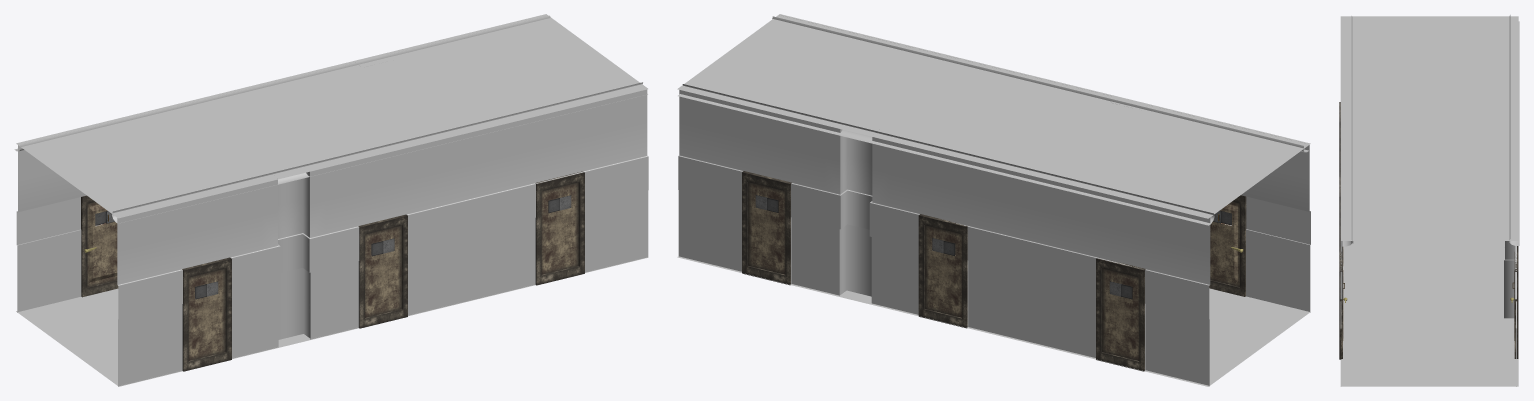
File: Mental_Hospital_Export2.fbx
The picture shows the model from 3 angles, left to right: view 1: azimuth 30°, elevation 25°; view 2: azimuth 150°, elevation 25°; view 3: azimuth 270°, elevation 25°; orthographic projection. The views are drawn at different scales.
Parts seen in each view (by area): view 1: polySurface171, polySurface121, polySurface123, polySurface131, polySurface142; view 2: polySurface171, polySurface139, polySurface137, polySurface142, polySurface123; view 3: polySurface171, polySurface131, polySurface137, polySurface121.
Part boxes in pixels (bbox=[...]): polySurface171: bbox=[14, 14, 648, 386]; polySurface121: bbox=[358, 214, 407, 328]; polySurface123: bbox=[182, 257, 231, 371]; polySurface131: bbox=[535, 171, 584, 285]; polySurface142: bbox=[81, 195, 118, 297]; polySurface171: bbox=[677, 14, 1310, 386]; polySurface139: bbox=[918, 214, 967, 328]; polySurface137: bbox=[742, 171, 791, 285]; polySurface142: bbox=[1096, 258, 1145, 371]; polySurface123: bbox=[1209, 195, 1246, 296]; polySurface171: bbox=[1340, 15, 1519, 386]; polySurface131: bbox=[1339, 251, 1343, 359]; polySurface137: bbox=[1514, 251, 1518, 358]; polySurface121: bbox=[1339, 176, 1343, 265].
Size of the model in its own units: 76.31 by 23.38 by 25.77.
